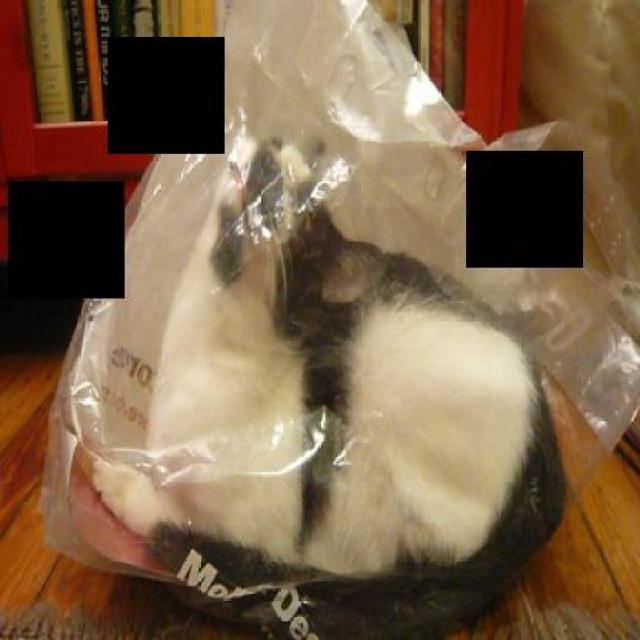plastic bag: (34, 0, 638, 628)
